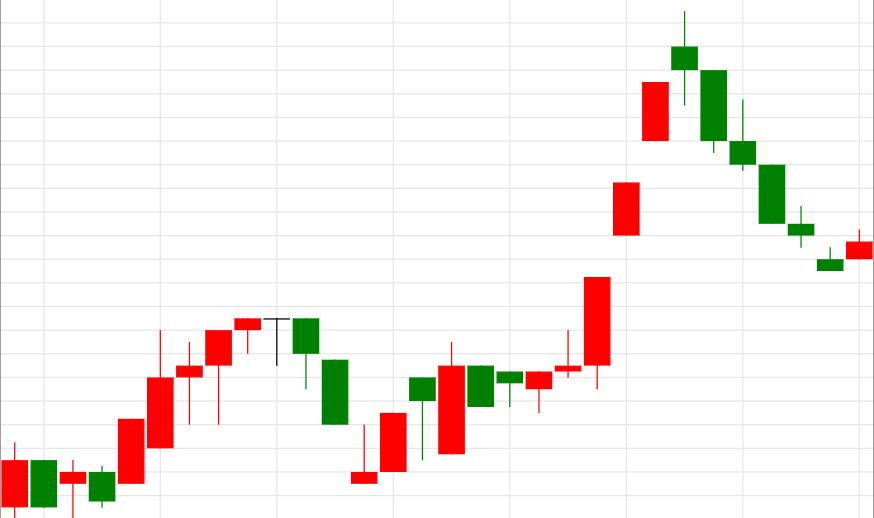evening_star_fall: (525, 11, 728, 413)
